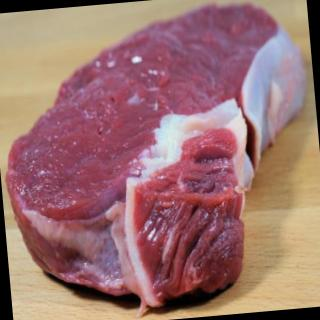Daging Sapi: (1, 1, 320, 309)
